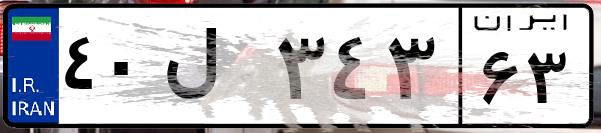0: (110, 28, 158, 98)
3: (270, 28, 330, 110), (385, 28, 445, 110), (525, 38, 570, 115)
4: (330, 28, 385, 110), (57, 26, 110, 100)
6: (475, 38, 525, 113)
ل: (158, 20, 270, 120)
